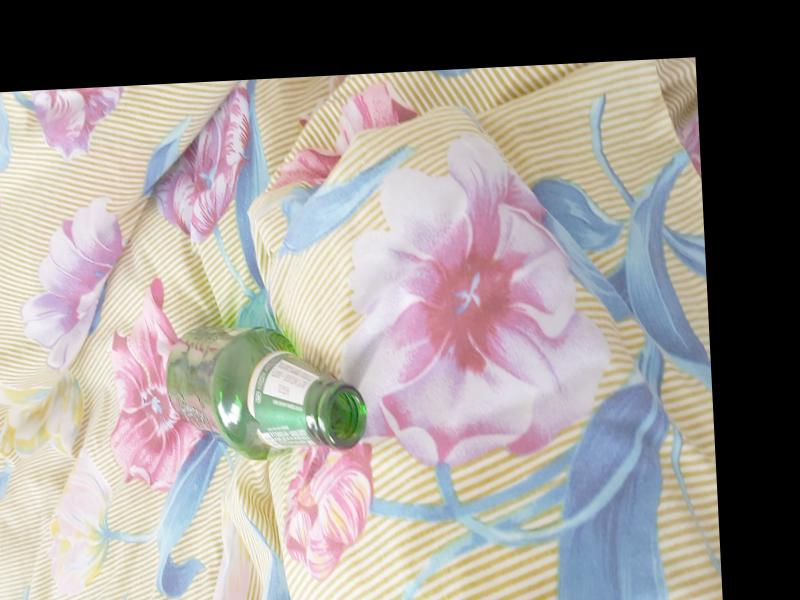Beer: (164, 326, 368, 464)
